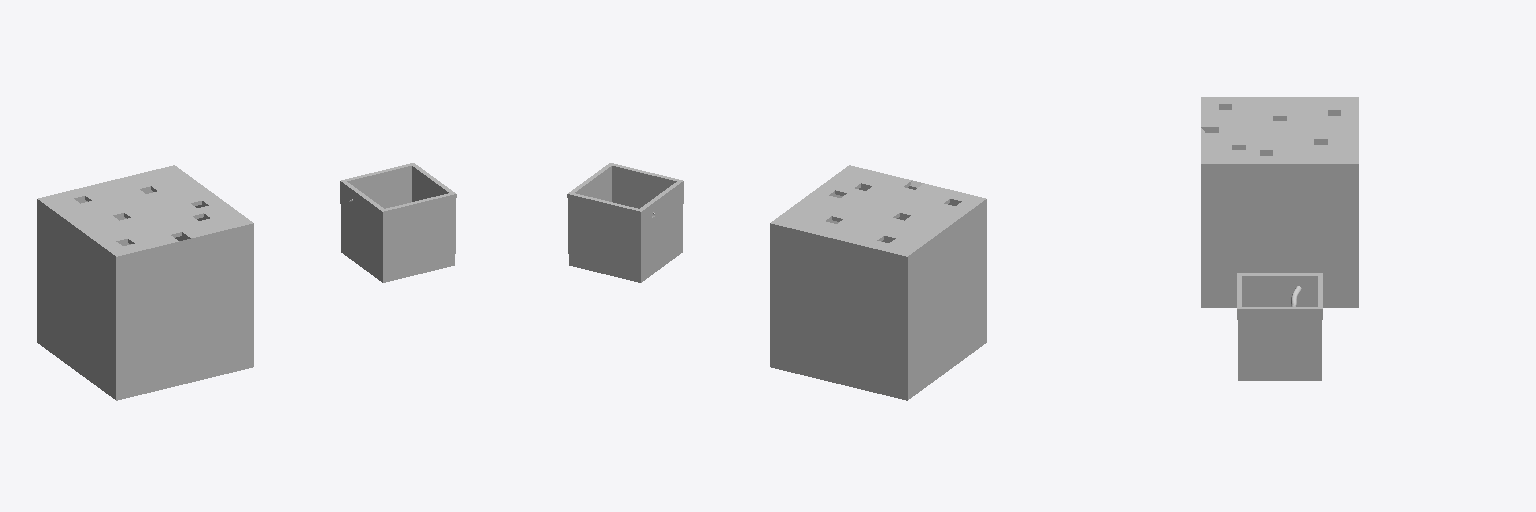
The model's file is chamber.obj.
3 views of the same model, side by side, from view 1: azimuth 30°, elevation 25°; view 2: azimuth 150°, elevation 25°; view 3: azimuth 270°, elevation 25° (orthographic).
Parts seen in each view (by area): view 1: Cube, Cube.002; view 2: Cube, Cube.002; view 3: Cube, Cube.002.
Part boxes in pixels (x1,y1,x2,y2): Cube: (37,165,253,400); Cube.002: (340,163,456,282); Cube: (770,165,986,400); Cube.002: (567,163,683,282); Cube: (1201,97,1358,307); Cube.002: (1237,273,1322,380).
Bounding box in the file's own units: 110 × 42.36 × 42.36.